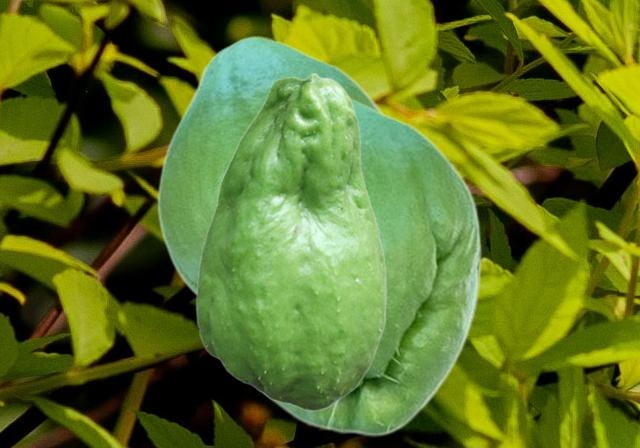sayote: (250, 94, 481, 437), (195, 72, 386, 410), (156, 36, 383, 296)
